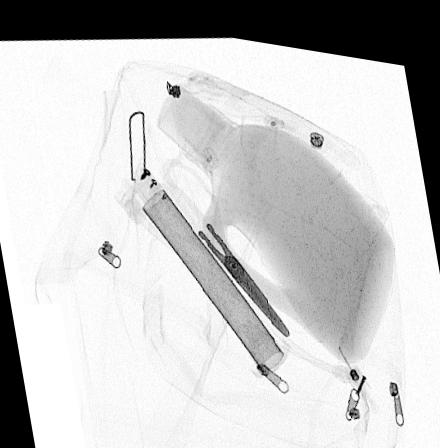Scissors: (148, 149, 292, 328)
